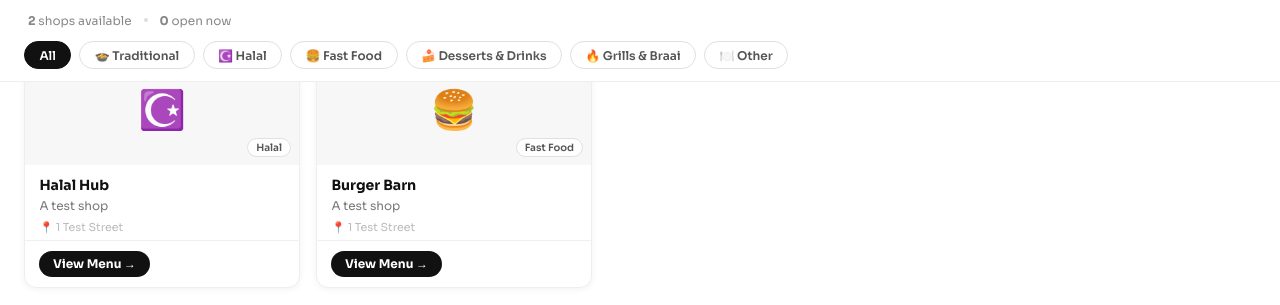
Scenario: Dashboard.js › Category Filter Pills › filters vendors by the selected category
Expected: the heading "Halal Hub" is shown, [39, 176, 109, 194]
Click the button "☪️ Halal".
click(242, 55)  # box [203, 41, 282, 69]
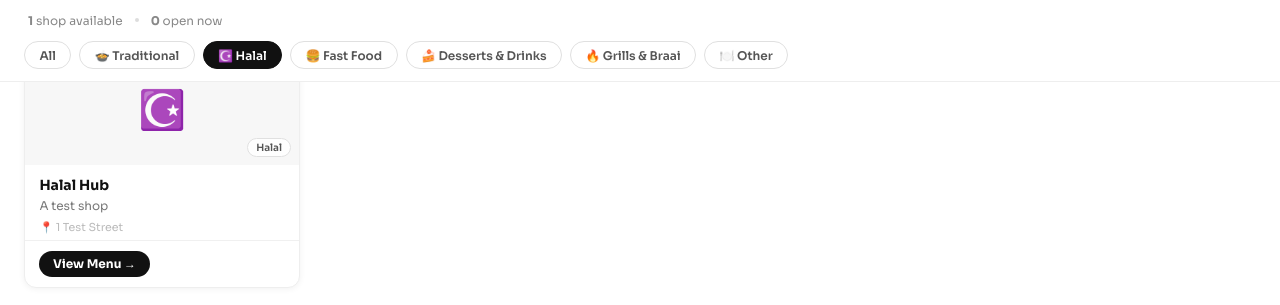
Expected: the heading "Halal Hub" is shown, [39, 176, 109, 194]
Expected: the heading "Burger Barn" is gone
